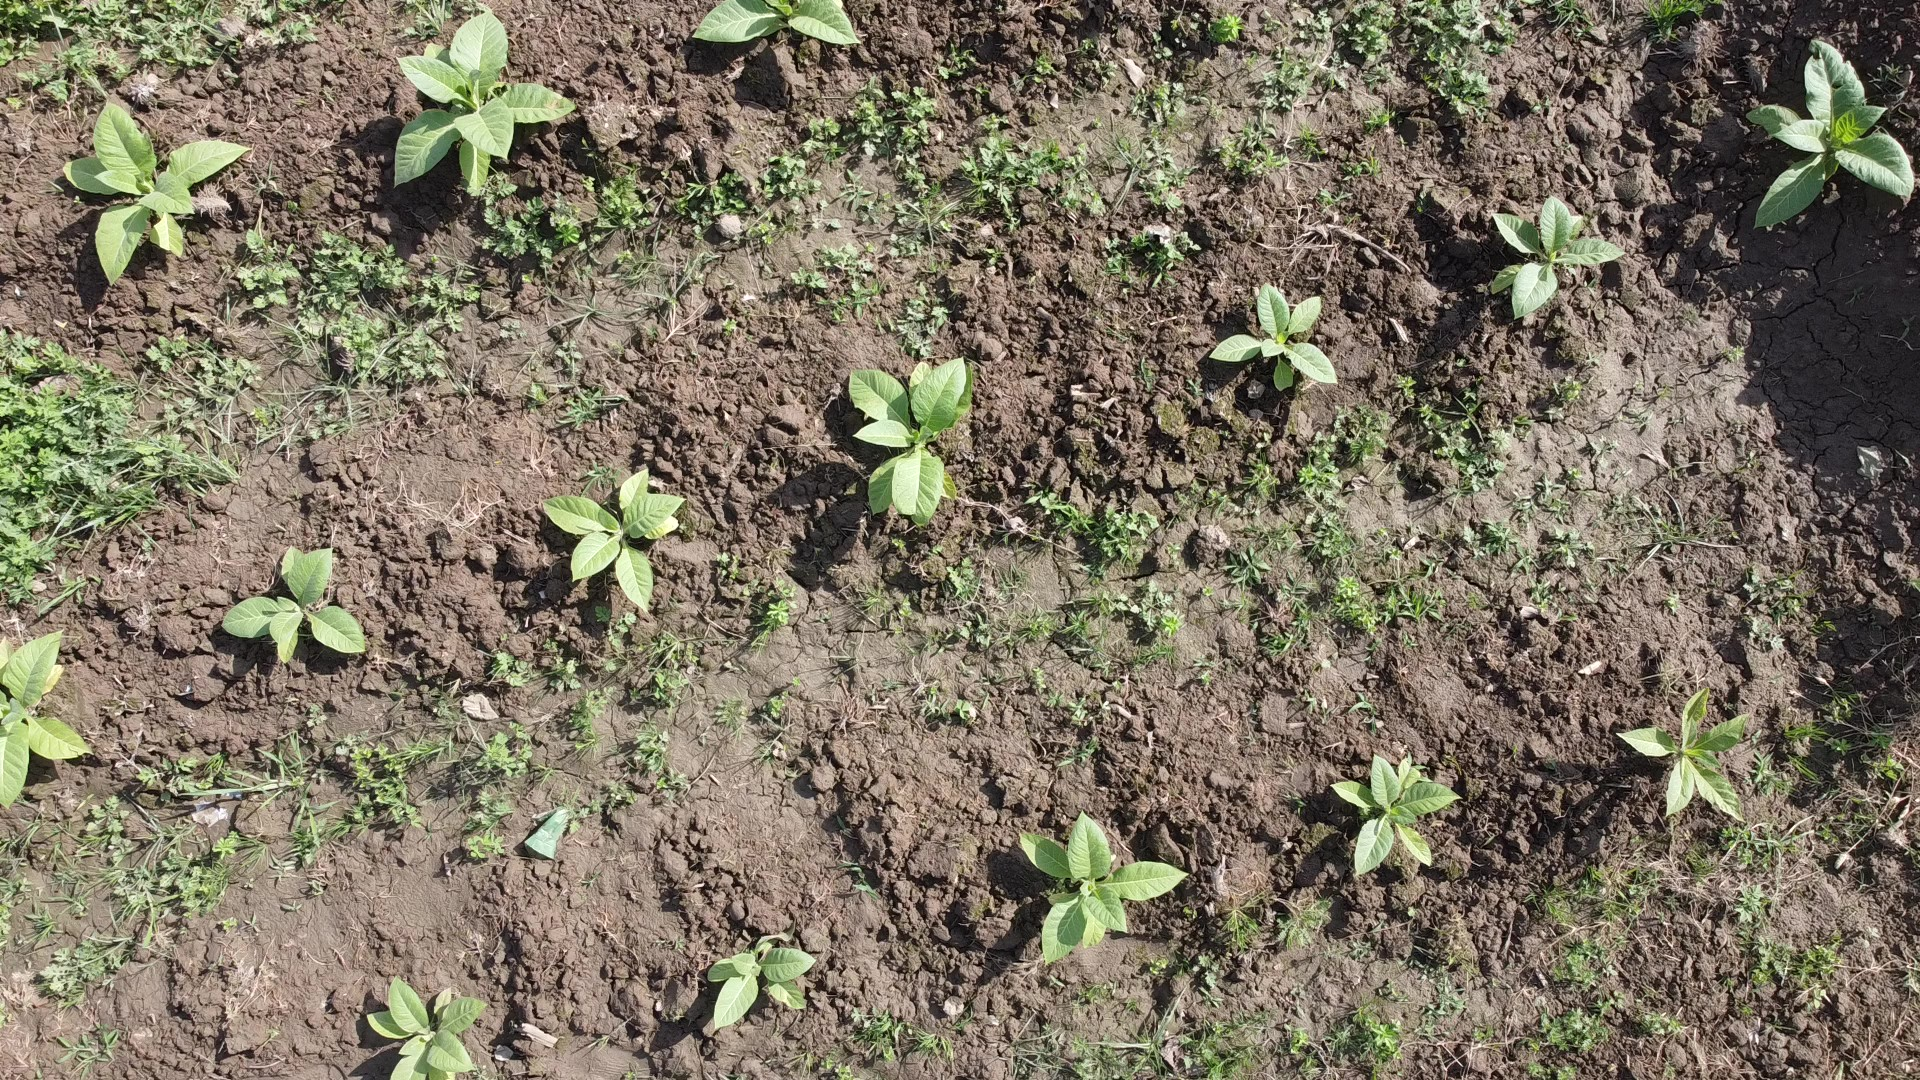weed: (62, 98, 254, 288), (393, 10, 578, 192), (1744, 38, 1916, 230), (1018, 809, 1190, 966), (847, 355, 975, 530), (542, 466, 689, 613), (1615, 686, 1751, 824), (0, 627, 97, 813), (220, 544, 367, 664), (1329, 749, 1463, 877), (1490, 195, 1626, 321), (1207, 281, 1340, 392), (366, 974, 490, 1080), (707, 917, 818, 1030), (690, 0, 863, 46)
